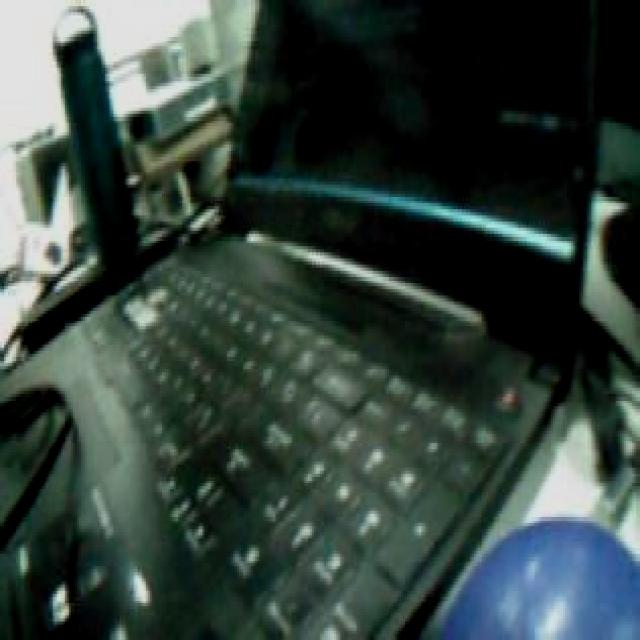BallPurple: (435, 517, 640, 640)
